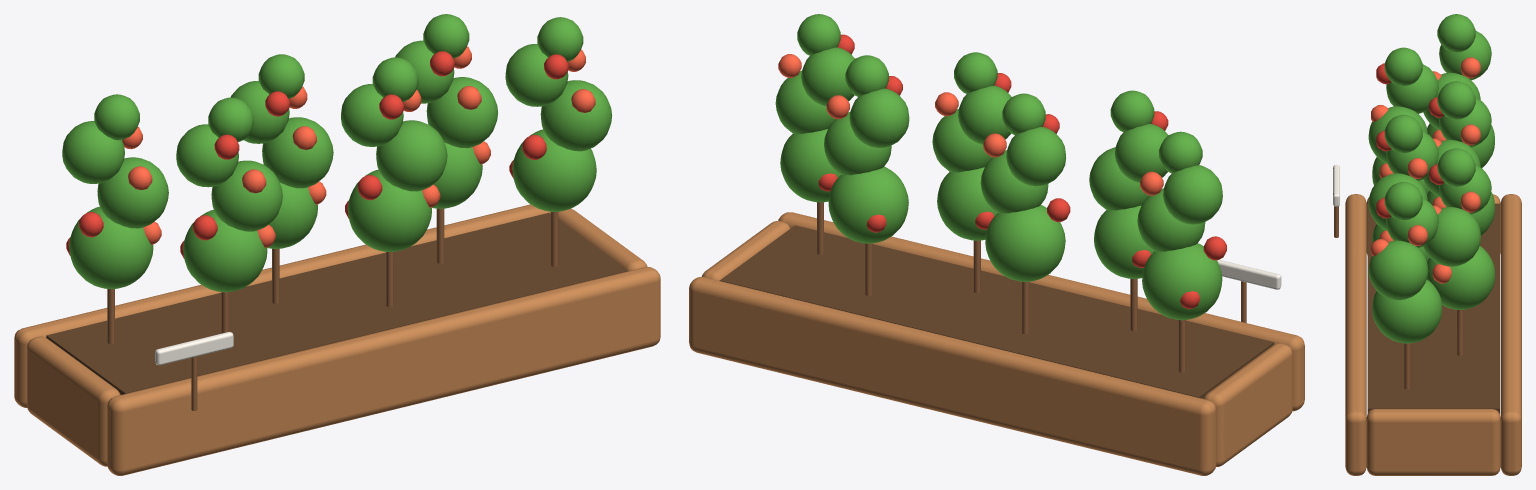
The model's file is vegbed.glb.
The picture shows the model from 3 angles, left to right: view 1: azimuth 30°, elevation 25°; view 2: azimuth 150°, elevation 25°; view 3: azimuth 270°, elevation 25°; orthographic projection. The views are drawn at different scales.
Bounding box in the file's own units: 3 × 1.67 × 1.07.
